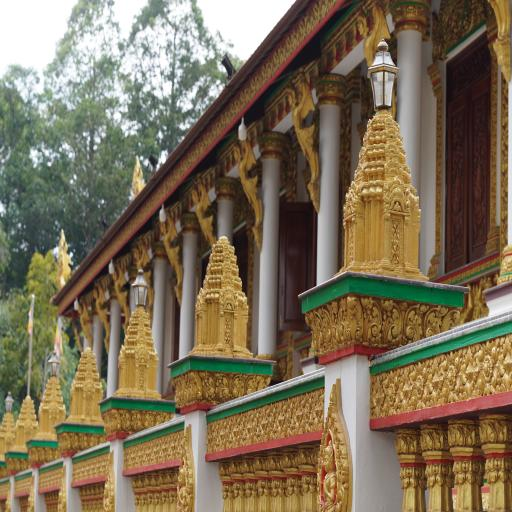hoa: (384, 379, 399, 406), (480, 355, 494, 380), (414, 374, 428, 398), (446, 366, 460, 390)
la: (338, 295, 364, 343), (379, 298, 402, 348), (359, 295, 381, 345), (404, 302, 424, 348), (423, 302, 444, 338), (212, 370, 232, 404), (199, 369, 216, 402), (443, 304, 460, 334), (318, 304, 330, 346), (230, 371, 246, 402), (305, 311, 317, 352), (243, 371, 259, 397), (314, 309, 324, 348), (330, 302, 336, 346)
ran: (54, 226, 73, 294), (130, 152, 146, 202)
than: (285, 74, 325, 213), (231, 134, 261, 250), (357, 2, 397, 79), (161, 209, 187, 301), (188, 174, 217, 252), (131, 244, 152, 310), (111, 264, 130, 336), (321, 440, 339, 512), (93, 280, 112, 346), (75, 298, 93, 352), (174, 466, 186, 512), (102, 481, 110, 512)
